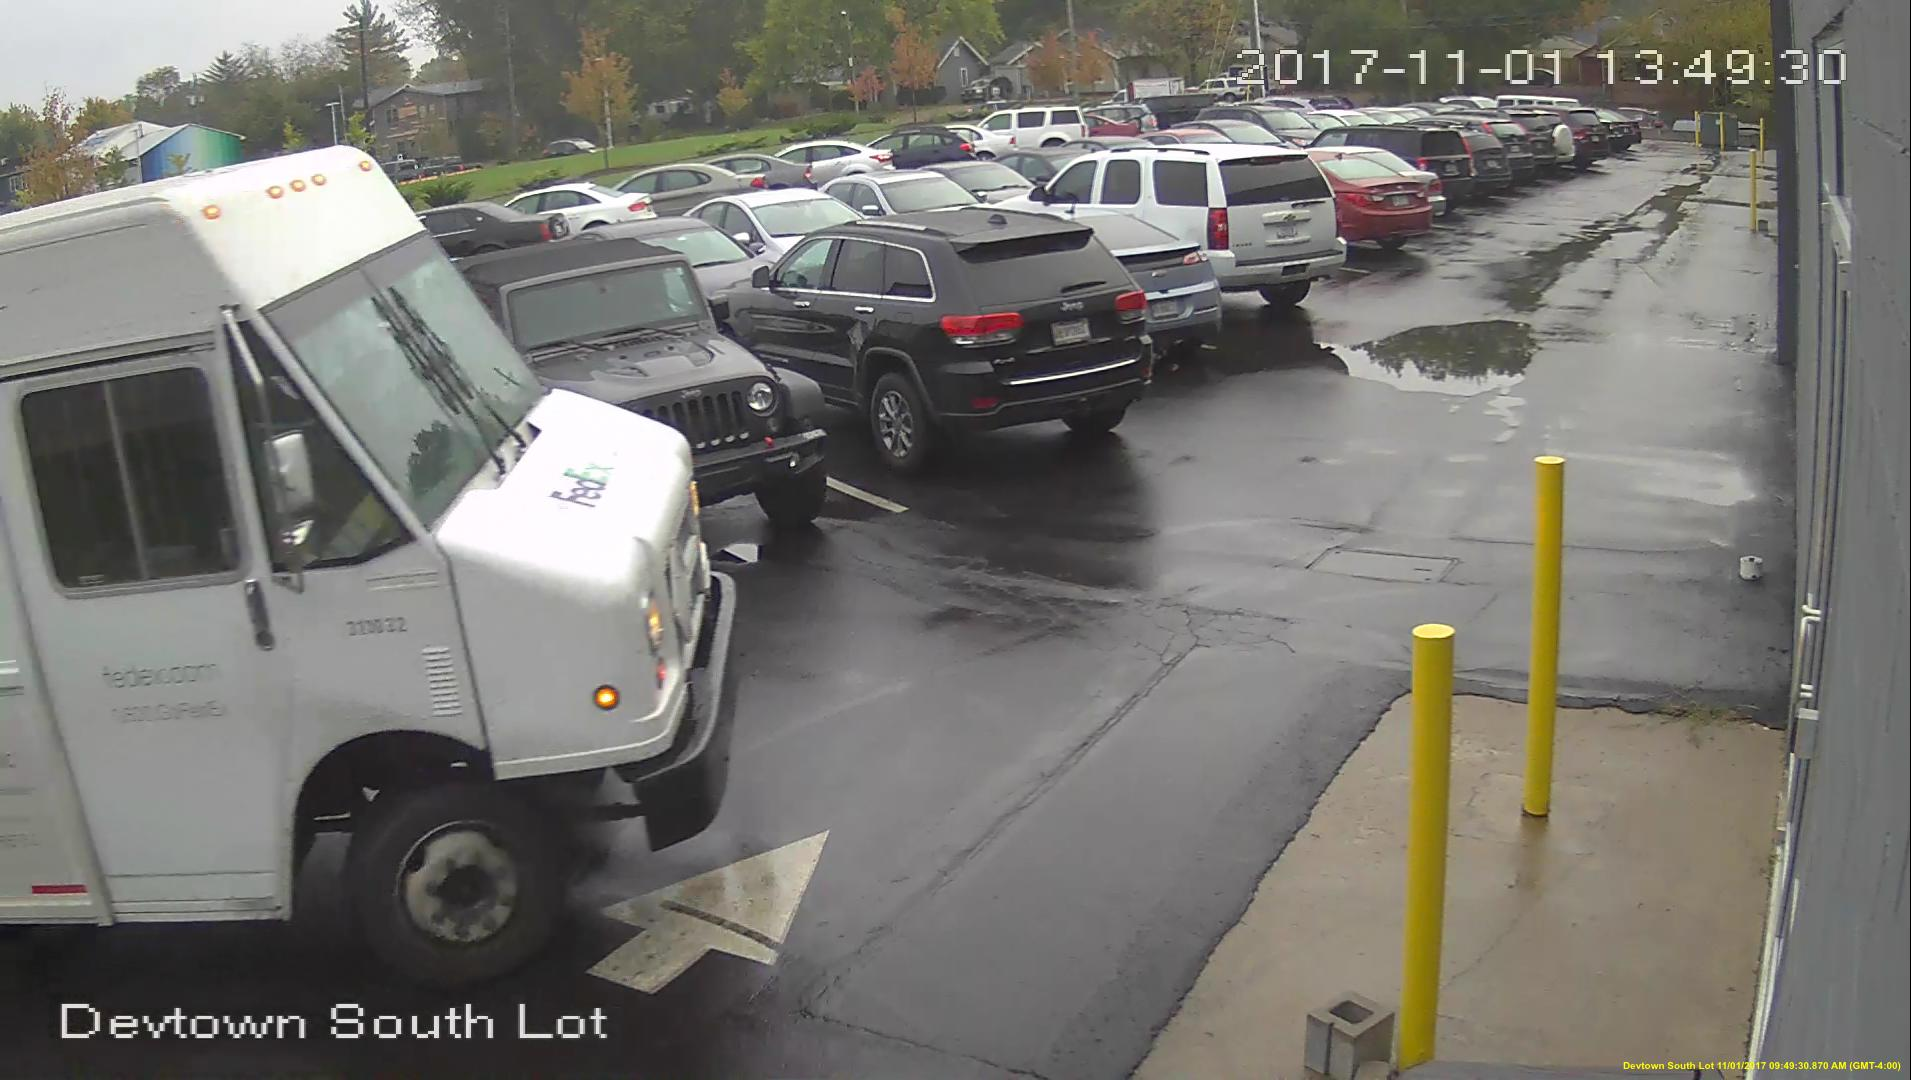fedex_truck: (3, 157, 740, 975)
